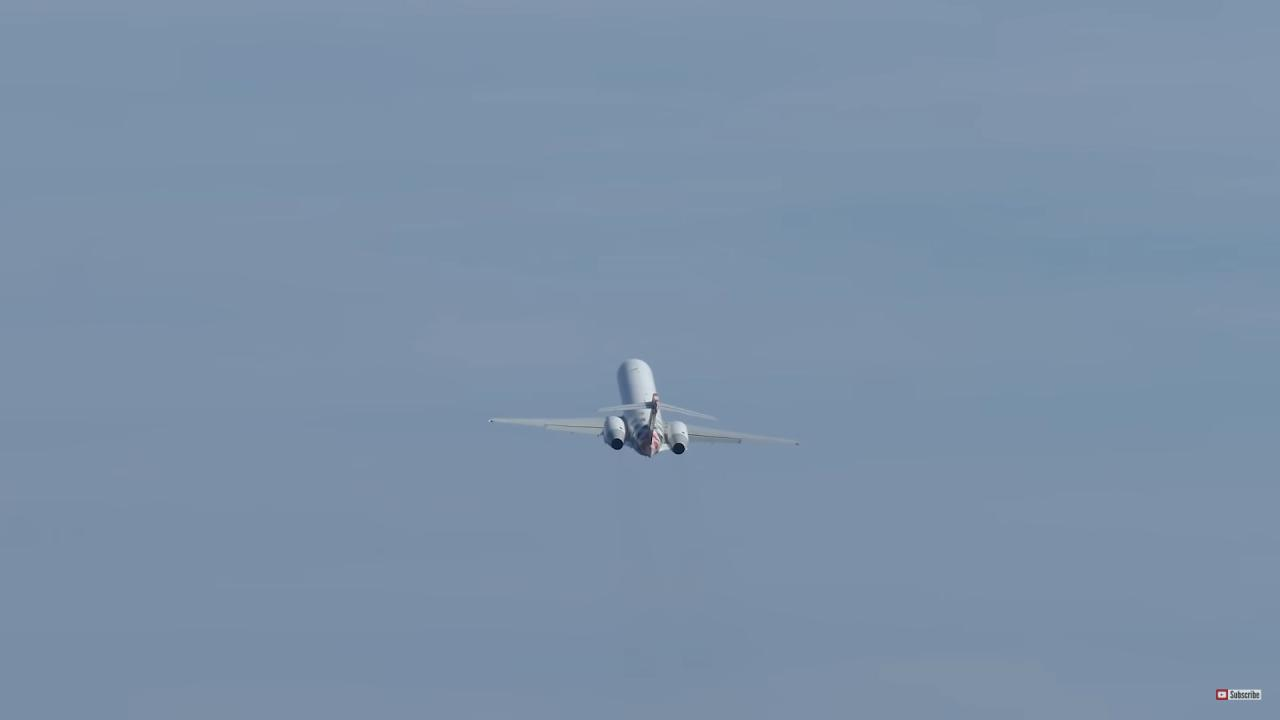Airplane: (475, 346, 820, 469)
